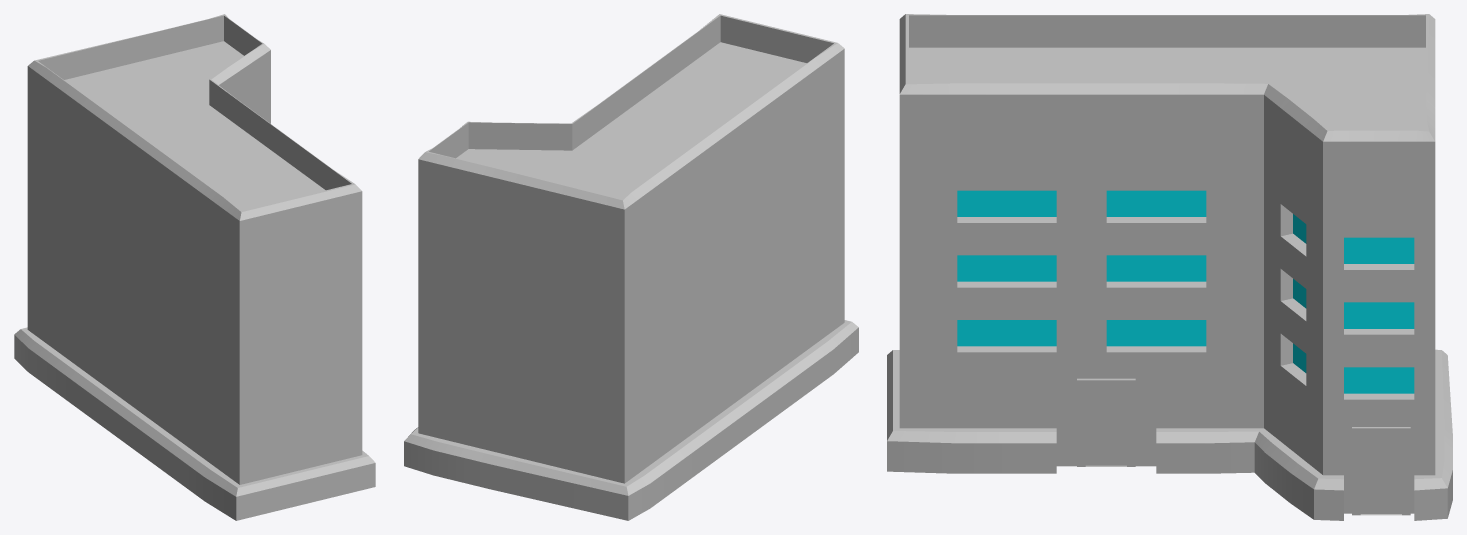
File: Building_5.FBX
3 views of the same model, side by side, from view 1: azimuth 30°, elevation 25°; view 2: azimuth 150°, elevation 25°; view 3: azimuth 270°, elevation 25° (orthographic). The views are drawn at different scales.
Parts seen in each view (by area): view 1: Building 3; view 2: Building 3; view 3: Building 3, Door_3(B), Door_3(A).
Boxes of the visible parts, x1=… form: Building 3: x1=14, y1=14, x2=375, y2=520; Building 3: x1=404, y1=14, x2=858, y2=520; Building 3: x1=887, y1=14, x2=1452, y2=520; Door_3(B): x1=1352, y1=427, x2=1410, y2=515; Door_3(A): x1=1077, y1=378, x2=1135, y2=466.
Bounding box in the file's own units: 729 × 938 × 1268.
